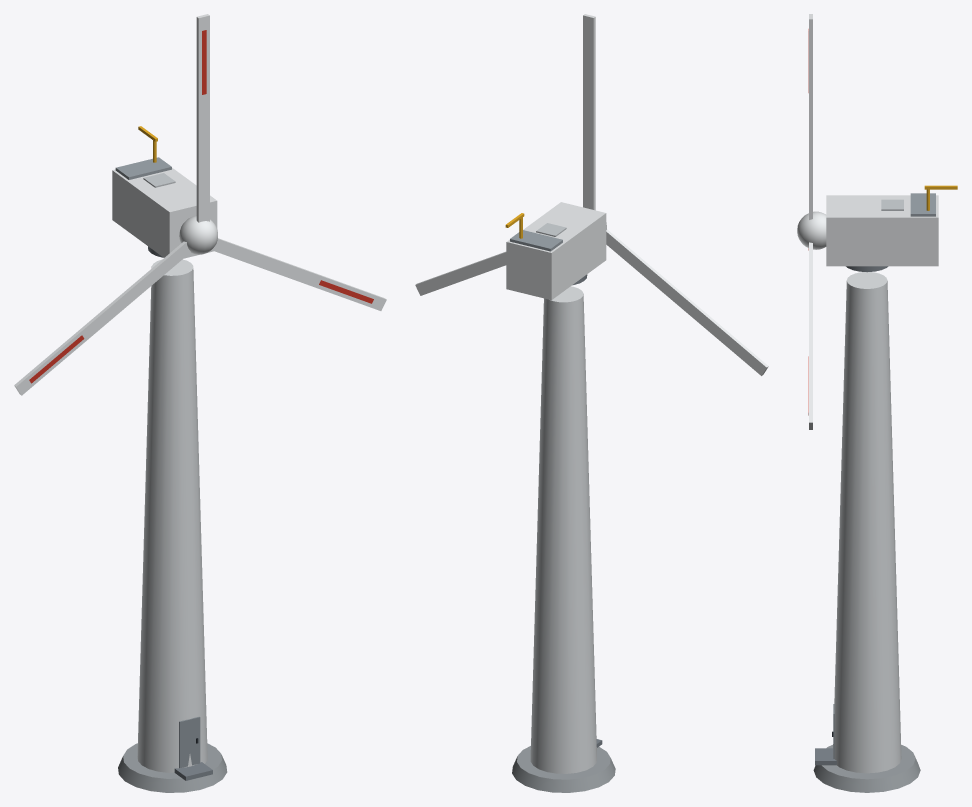
Rendered from equipment--windTurbine.glb.
The picture shows the model from 3 angles, left to right: view 1: azimuth 30°, elevation 25°; view 2: azimuth 150°, elevation 25°; view 3: azimuth 270°, elevation 25°; orthographic projection. The views are drawn at different scales.
Visible parts, largest first — view 1: tower, nacelle, blade2, blade1, blade3, windTurbine:shell, hub, towerDoor; view 2: tower, nacelle, blade2, blade1, windTurbine:shell, blade3; view 3: tower, nacelle, windTurbine:shell, hub, blade1, blade3.
Boxes of the visible parts, x1,y1,x2,y2 form: tower: (137,259,212,780); nacelle: (112,157,217,258); blade2: (14,241,190,395); blade1: (196,14,209,222); blade3: (211,238,386,310); windTurbine:shell: (118,743,227,792); hub: (179,215,217,254); towerDoor: (179,716,200,768); tower: (530,286,602,773); nacelle: (506,202,606,299); blade2: (606,229,768,375); blade1: (583,14,595,210); windTurbine:shell: (512,746,615,792); blade3: (415,251,506,295); tower: (815,272,901,773); nacelle: (826,193,938,266); windTurbine:shell: (813,745,920,792); hub: (797,211,826,249); blade1: (808,14,812,219); blade3: (808,242,812,429).
Bounding box in the file's own units: 16.36 × 32.65 × 6.29.
